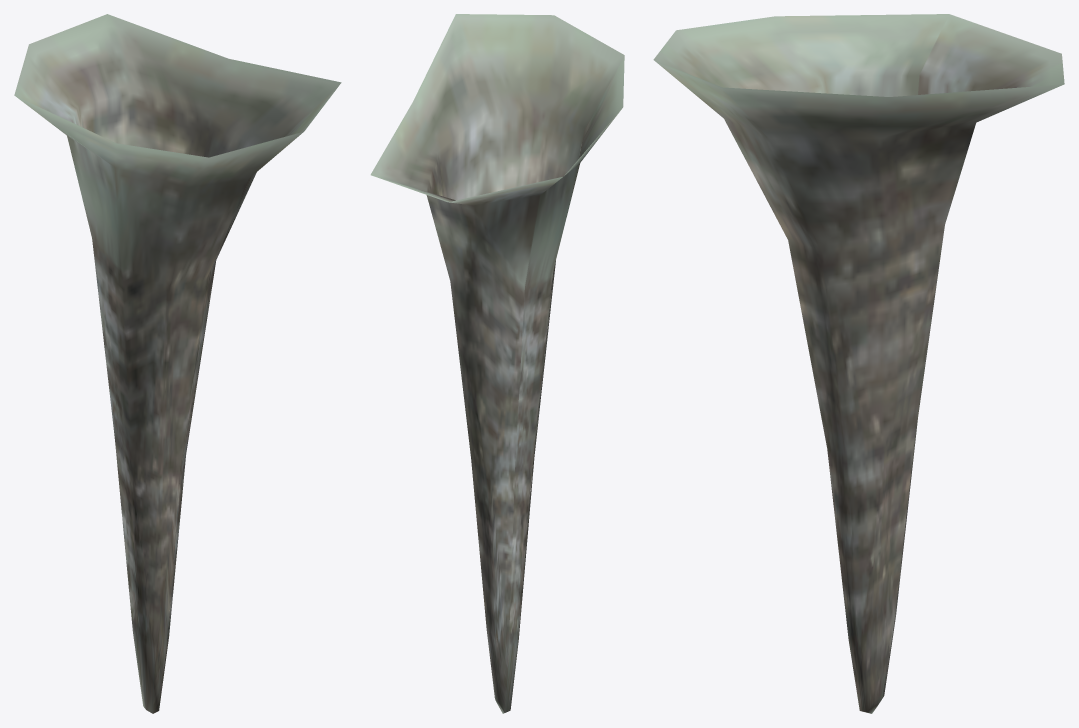
The model's file is TROLLHOLE02_PS-MAINSTALAG27.fbx.
The picture shows the model from 3 angles, left to right: view 1: azimuth 30°, elevation 25°; view 2: azimuth 150°, elevation 25°; view 3: azimuth 270°, elevation 25°; orthographic projection. The views are drawn at different scales.
Parts seen in each view (by area): view 1: TROLLHOLE02_PS-MAINSTALAG27; view 2: TROLLHOLE02_PS-MAINSTALAG27; view 3: TROLLHOLE02_PS-MAINSTALAG27.
Part boxes in pixels (x1,y1,x2,y2): TROLLHOLE02_PS-MAINSTALAG27: (14, 14, 341, 713); TROLLHOLE02_PS-MAINSTALAG27: (370, 14, 624, 713); TROLLHOLE02_PS-MAINSTALAG27: (653, 14, 1064, 713).
Size of the model in its own units: 10090 by 28536 by 15452.
1 material, 1 textured.
